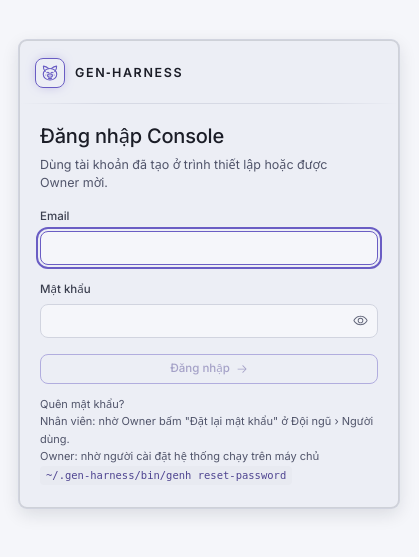
Test: LoginPage giới hạn đăng nhập › INVALID_CREDENTIALS giữ câu cũ, không có Chi tiết kỹ thuật
The image size is (419, 557).
In the field labelled "Email": (209, 248) [40,231,378,265], type "owner@example.vn"
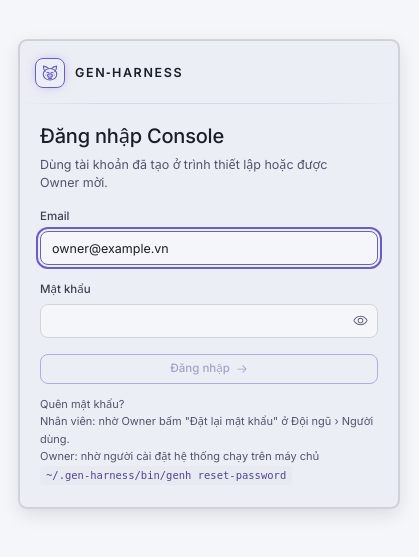
In the password field labelled "Mật khẩu": (209, 321) [40,304,378,338], type "mat-khau-sai-123"
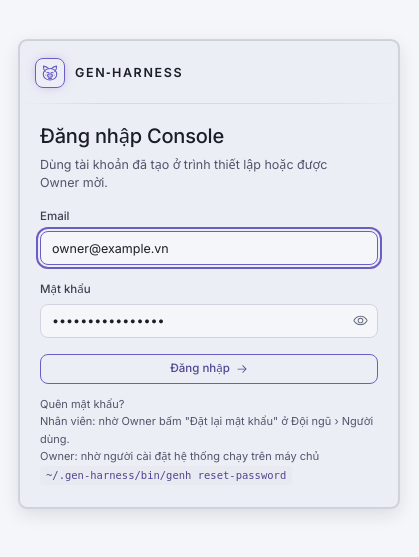
Click the button "Đăng nhập": (209, 369) [40,354,378,384]
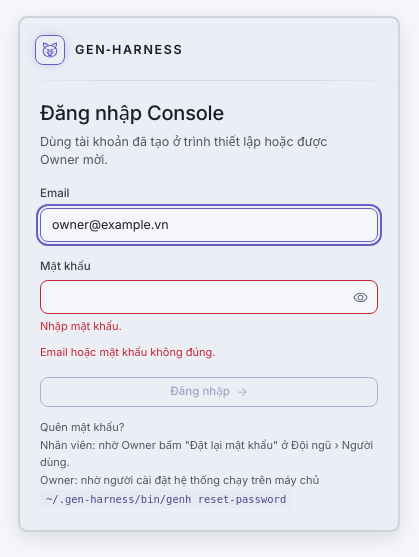
Result: the message reads "Email hoặc mật khẩu không đúng." at [40,345,215,359]
